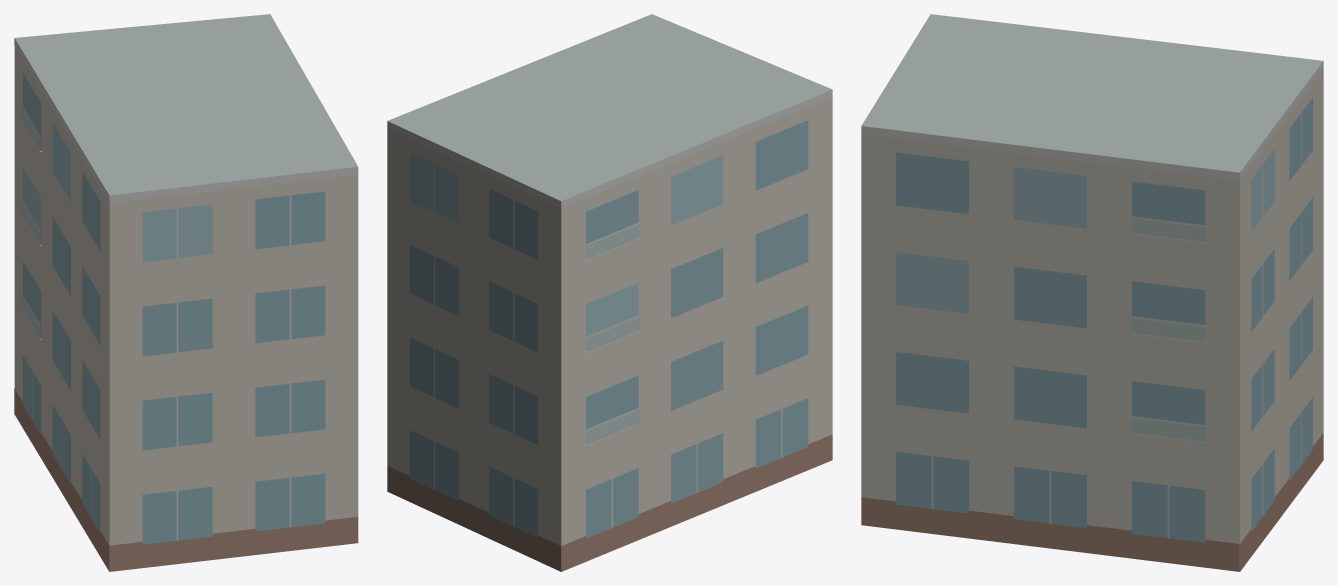
The model's file is survey-upis-32784097.glb.
3 views of the same model, side by side, from view 1: azimuth 30°, elevation 25°; view 2: azimuth 150°, elevation 25°; view 3: azimuth 270°, elevation 25° (orthographic). The views are drawn at different scales.
Parts seen in each view (by area): view 1: survey-upis-32784097.tmp; view 2: survey-upis-32784097.tmp; view 3: survey-upis-32784097.tmp.
Part boxes in pixels (x1=…): survey-upis-32784097.tmp: x1=14, y1=14, x2=358, y2=571; survey-upis-32784097.tmp: x1=387, y1=14, x2=832, y2=571; survey-upis-32784097.tmp: x1=861, y1=14, x2=1323, y2=571.
Size of the model in its own units: 10.41 by 12.2 by 12.82.
